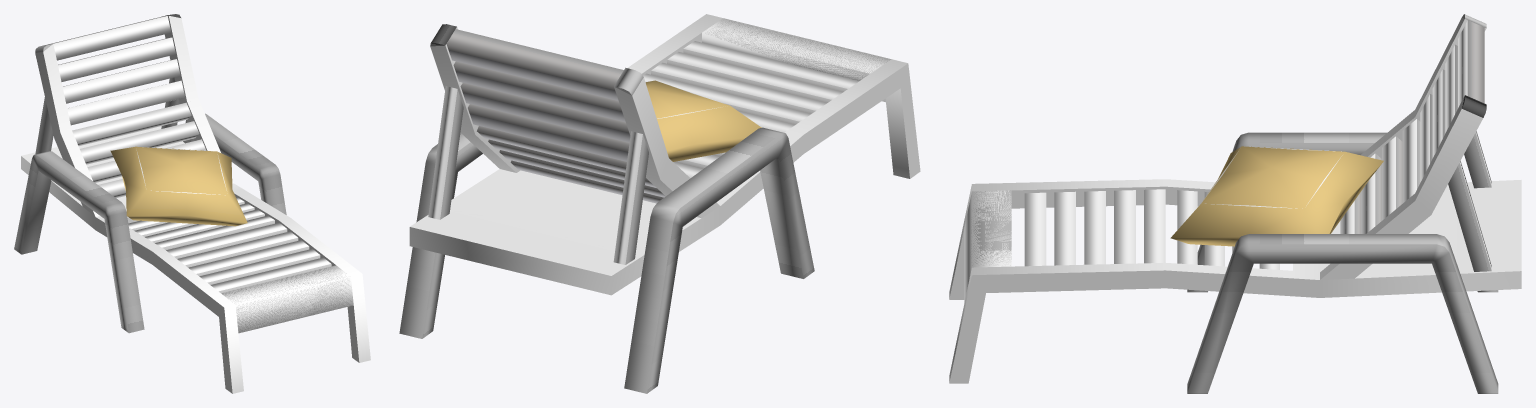
The model's file is objects_un_t02beachbed01.gltf.
3 views of the same model, side by side, from view 1: azimuth 30°, elevation 25°; view 2: azimuth 150°, elevation 25°; view 3: azimuth 270°, elevation 25° (orthographic). The views are drawn at different scales.
Visible parts, largest first — view 1: um_objects_un_t02beachbed01_model_lod0Shape:objects_un_t02be (×2); view 2: um_objects_un_t02beachbed01_model_lod0Shape:objects_un_t02be (×2); view 3: um_objects_un_t02beachbed01_model_lod0Shape:objects_un_t02be (×2).
Part boxes in pixels (left/top/right/bottom): um_objects_un_t02beachbed01_model_lod0Shape:objects_un_t02be (×2): left=14, top=14, right=370, bottom=393; um_objects_un_t02beachbed01_model_lod0Shape:objects_un_t02be (×2): left=399, top=14, right=920, bottom=393; um_objects_un_t02beachbed01_model_lod0Shape:objects_un_t02be (×2): left=949, top=14, right=1521, bottom=393.
Size of what is drawn, in the model's own units: 0.7438 by 0.8713 by 1.61.
Materials: 2 (1 with a texture image).
